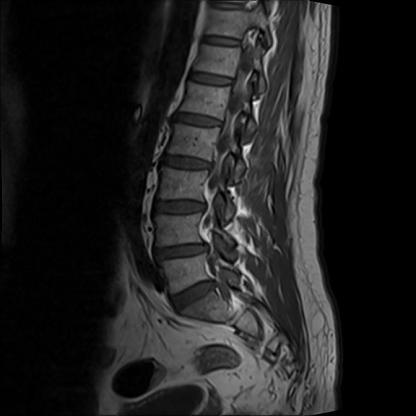Degenerative Disc Diseaserotation: (167, 278, 222, 308), (150, 238, 218, 262)
Disc Bulgerotation: (150, 241, 214, 265)
Disc Relaxationrotation: (150, 195, 210, 223)
